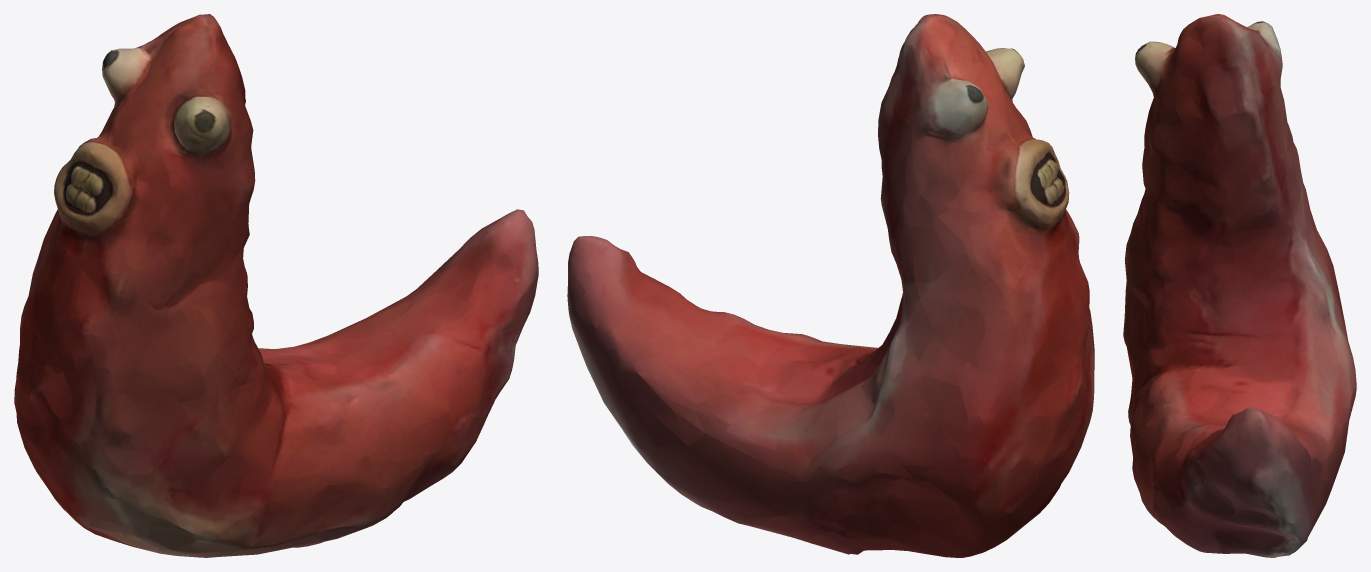
File: yamWalkyamWalk14.fbx
The picture shows the model from 3 angles, left to right: view 1: azimuth 30°, elevation 25°; view 2: azimuth 150°, elevation 25°; view 3: azimuth 270°, elevation 25°; orthographic projection. The views are drawn at different scales.
Parts seen in each view (by area): view 1: yamWalk14; view 2: yamWalk14; view 3: yamWalk14.
Part boxes in pixels (box(x1,y1,x2,y2)): yamWalk14: box(14, 14, 538, 557); yamWalk14: box(567, 14, 1094, 557); yamWalk14: box(1123, 14, 1356, 557).
Bounding box in the file's own units: 0.0704 × 0.0729 × 0.0323.
1 material, 1 textured.
